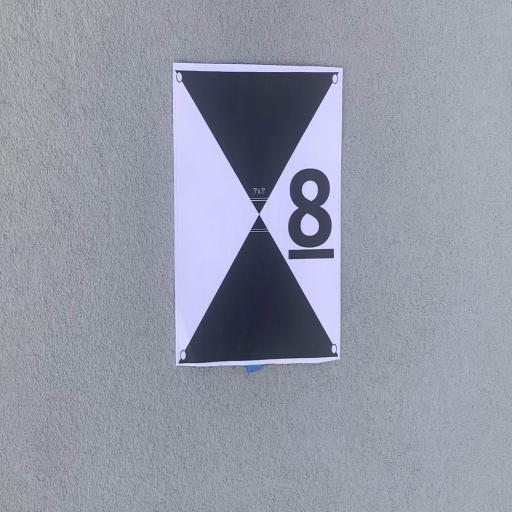target8: (173, 62, 339, 360)
